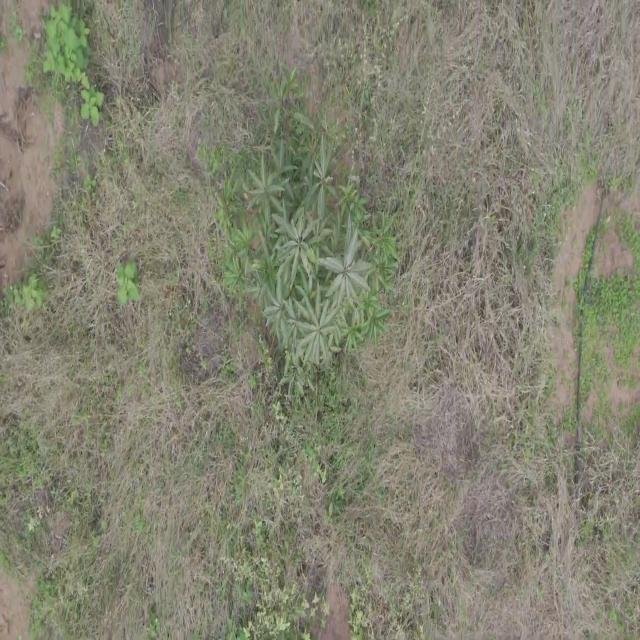mangoTree: (241, 58, 399, 375)
notMangoTree: (38, 0, 113, 136)
